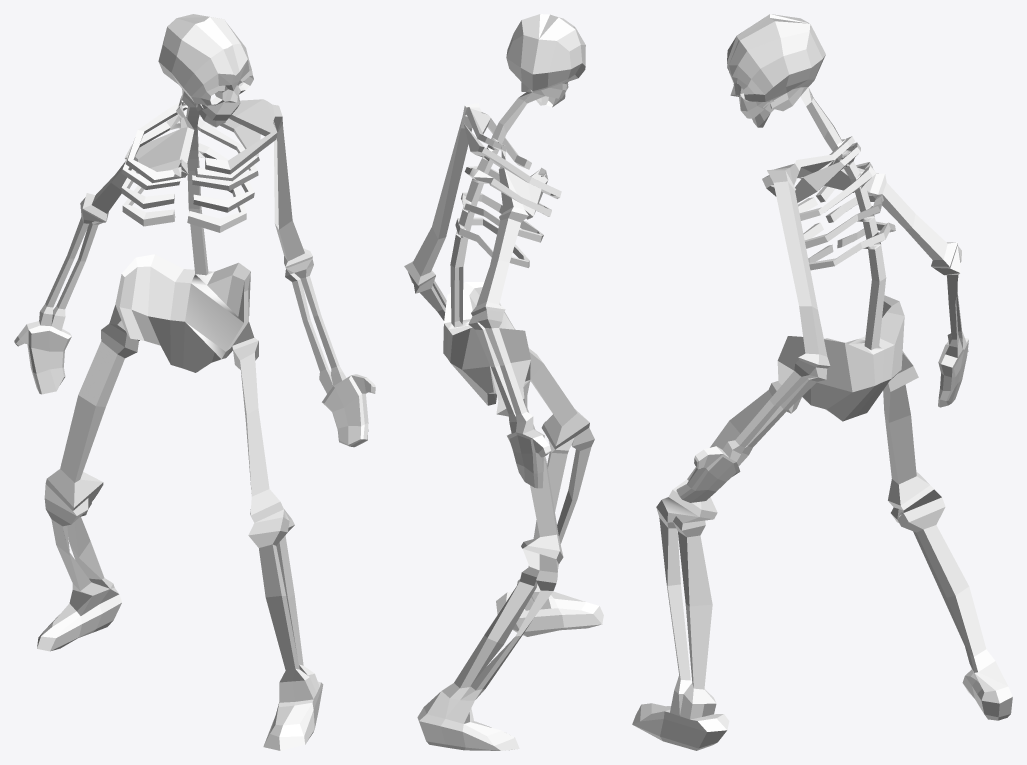
Rendered from SkeletonIdle(10).obj.
The picture shows the model from 3 angles, left to right: view 1: azimuth 30°, elevation 25°; view 2: azimuth 150°, elevation 25°; view 3: azimuth 270°, elevation 25°; orthographic projection. The views are drawn at different scales.
Visible parts, largest first — view 1: Object002; view 2: Object002; view 3: Object002.
Boxes of the visible parts, x1,y1,x2,y2 form: Object002: (14,14,375,750); Object002: (404,14,603,750); Object002: (632,14,1012,750).
Bounding box in the file's own units: 394 × 1123 × 556.
